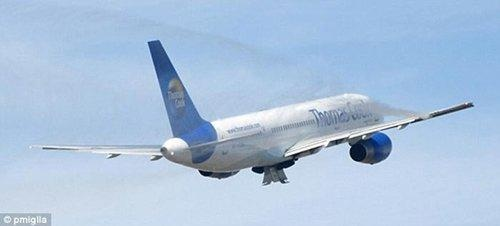airplane: (27, 38, 482, 185)
